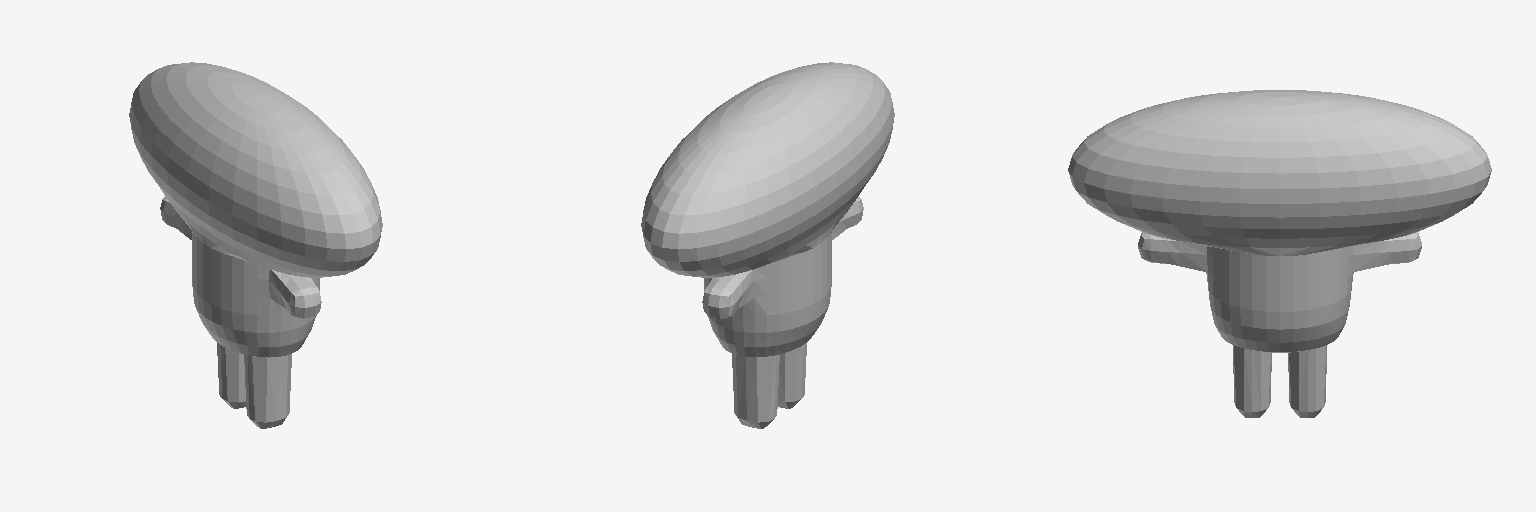
The model's file is nubzuki.obj.
3 views of the same model, side by side, from view 1: azimuth 30°, elevation 25°; view 2: azimuth 150°, elevation 25°; view 3: azimuth 270°, elevation 25° (orthographic).
Visible parts, largest first — view 1: Sphere; view 2: Sphere; view 3: Sphere.
Part boxes in pixels (bbox=[...]): Sphere: bbox=[129, 62, 382, 428]; Sphere: bbox=[641, 62, 894, 428]; Sphere: bbox=[1068, 90, 1491, 417].
Size of the model in its own units: 2 by 4.36 by 5.27.